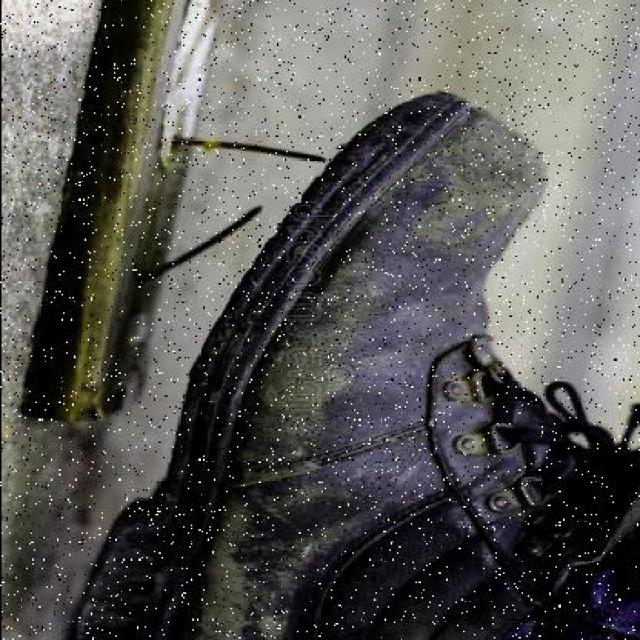shoes: (76, 84, 562, 639)
